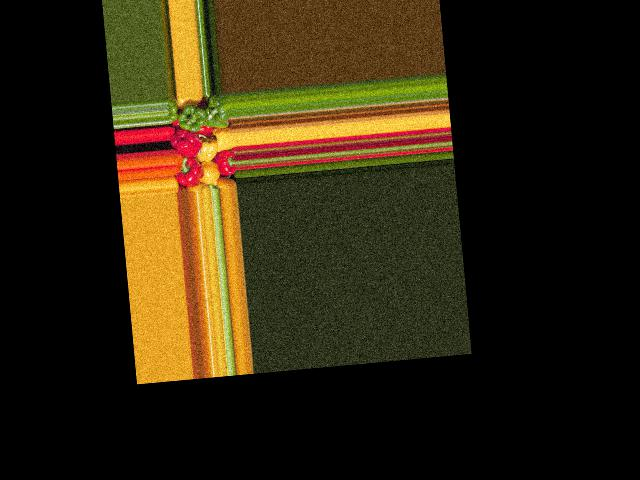bell_pepper: (165, 97, 182, 124)
